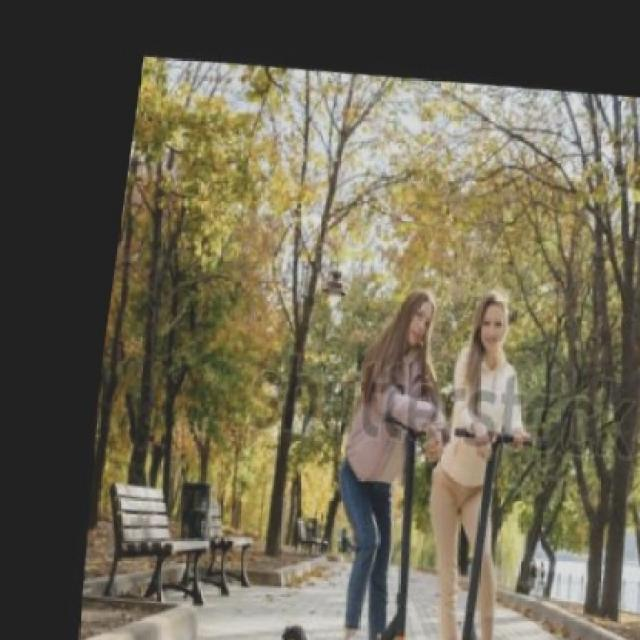bare_head: (471, 284, 538, 349), (392, 284, 436, 351)
human: (444, 282, 569, 636), (337, 278, 442, 626)
